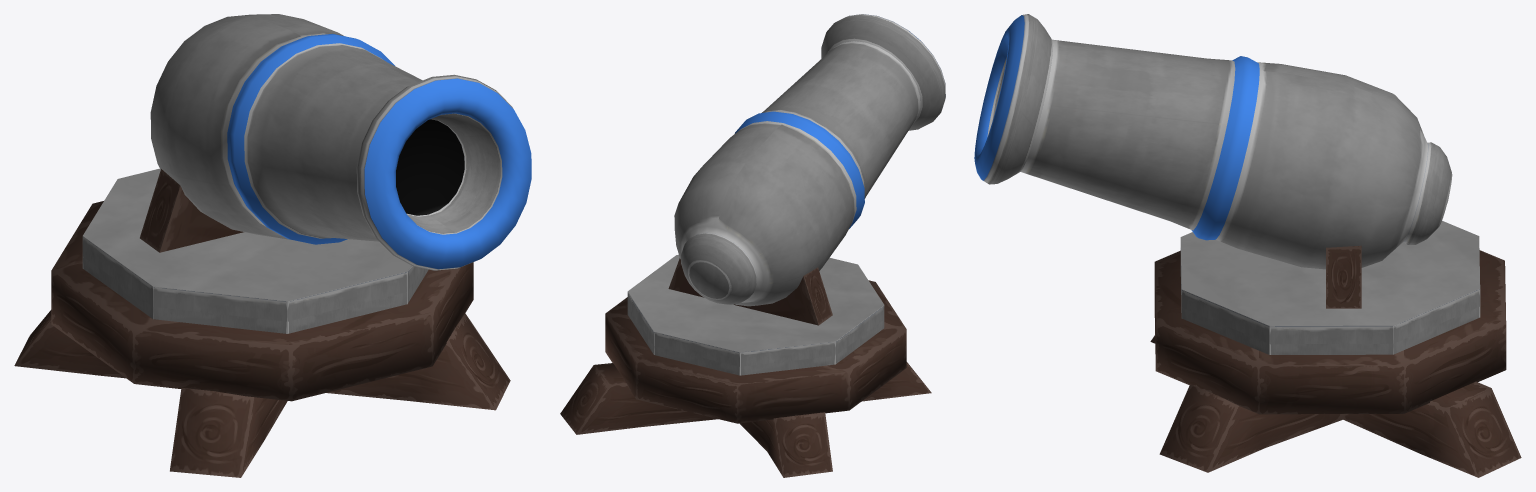
Rendered from cannon .fbx.
3 views of the same model, side by side, from view 1: azimuth 30°, elevation 25°; view 2: azimuth 150°, elevation 25°; view 3: azimuth 270°, elevation 25° (orthographic). The views are drawn at different scales.
Parts seen in each view (by area): view 1: cannon, cannon_Base; view 2: cannon, cannon_Base; view 3: cannon, cannon_Base.
Part boxes in pixels (x1=…): cannon: x1=82, y1=14, x2=531, y2=333; cannon_Base: x1=14, y1=201, x2=510, y2=477; cannon: x1=627, y1=14, x2=945, y2=375; cannon_Base: x1=560, y1=280, x2=931, y2=477; cannon: x1=974, y1=14, x2=1480, y2=354; cannon_Base: x1=1150, y1=250, x2=1521, y2=477.
Bounding box in the file's own units: 233 × 252 × 335.
